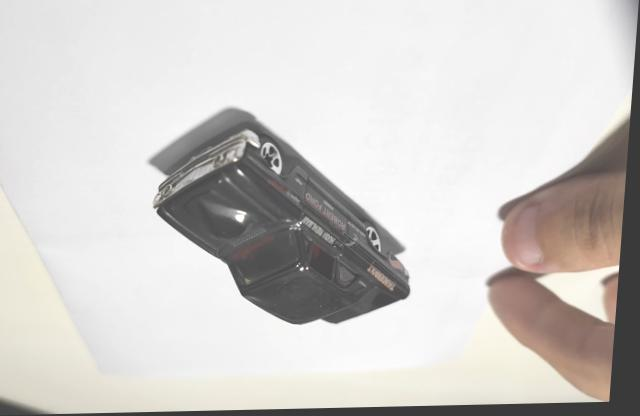01_FORD: (156, 109, 416, 326)
